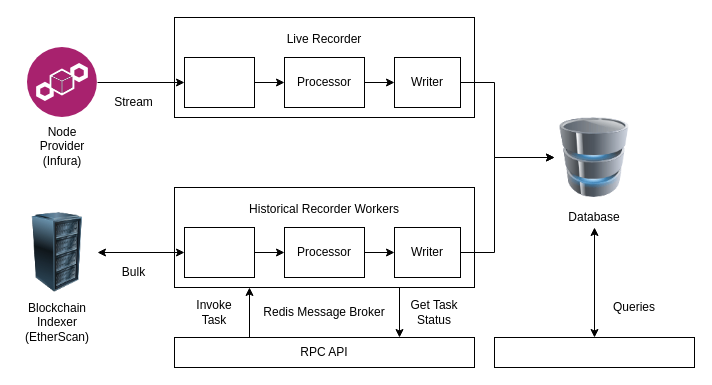
Some shapes in this 712 by 385 pixel diagram are drawn without their labels. The centre of each missing label's shape, as x and y in pixels:
Listener: point 219,82
Loader: point 219,252
REST API: point 594,352
